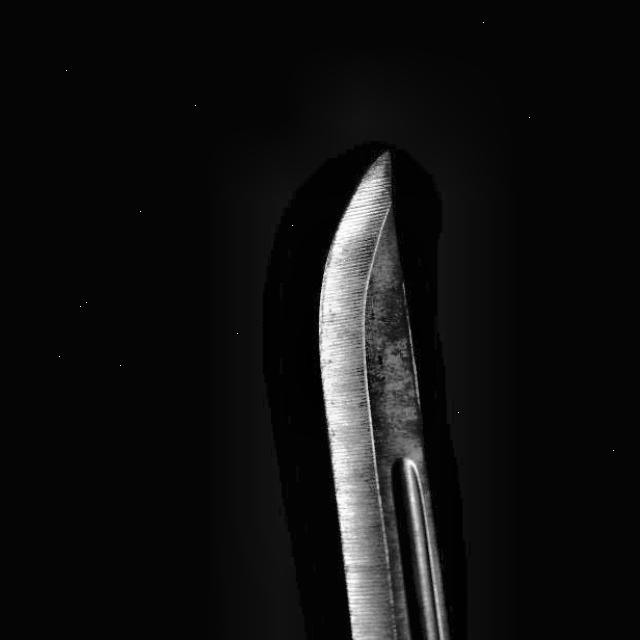knife: (308, 152, 463, 640)
